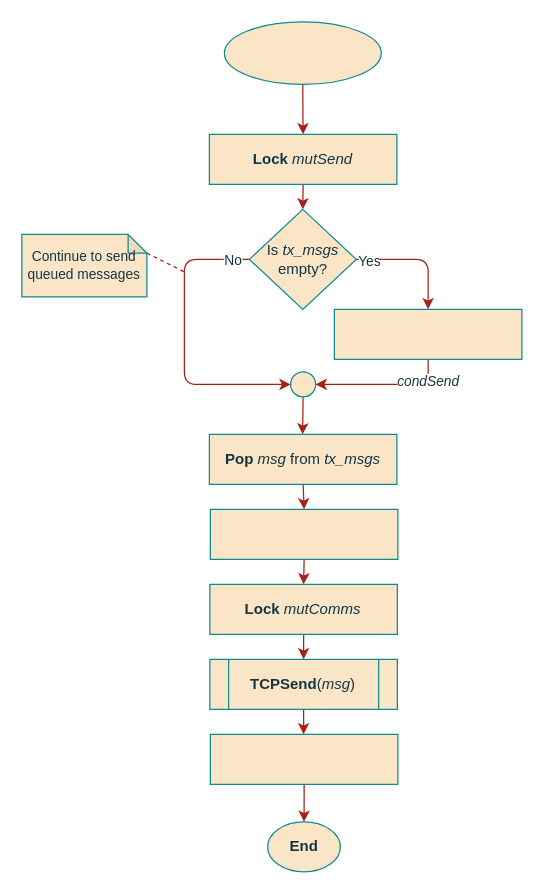
This 544x894 diagram has some shape labels left out. The centre of each missing label's shape, as x and y in pixels:
"tSend" belongs at (x=302, y=52).
"Unlock mutComms" belongs at (x=303, y=758).
"Unlock mutSend" belongs at (x=303, y=533).
"Wait for condSend" belongs at (x=427, y=333).
